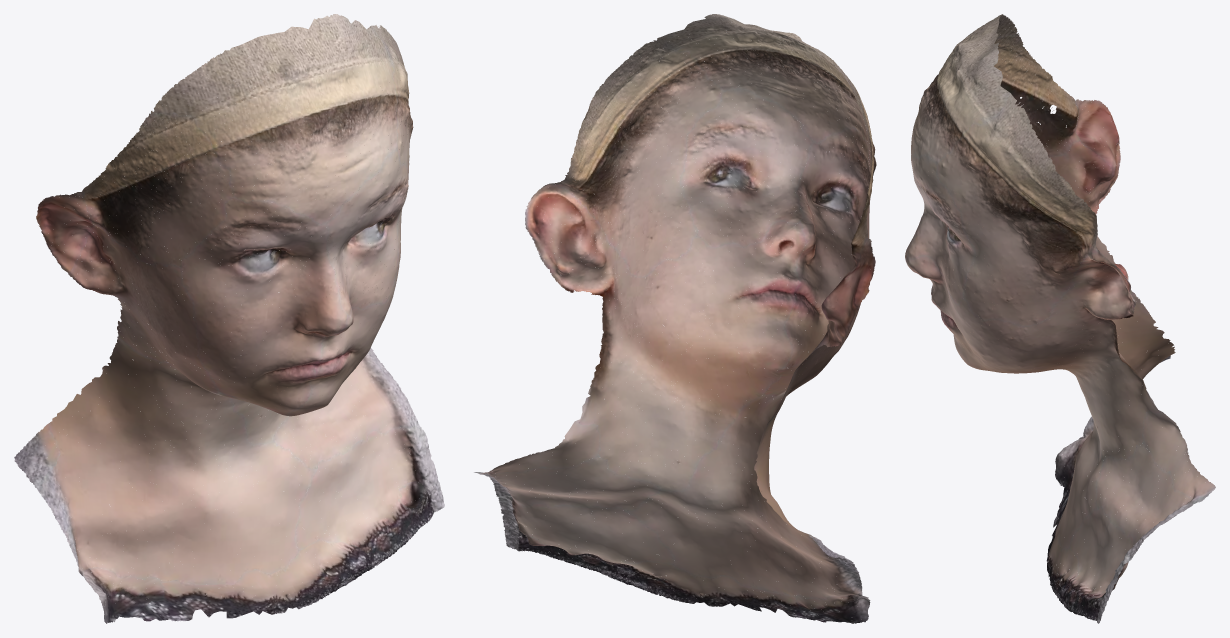
Rendered from 头像_带标注_发网女孩扫描02_opt.glb.
The picture shows the model from 3 angles, left to right: view 1: azimuth 30°, elevation 25°; view 2: azimuth 150°, elevation 25°; view 3: azimuth 270°, elevation 25°; orthographic projection. The views are drawn at different scales.
Parts seen in each view (by area): view 1: defaultMat, defaultMat_2, defaultMat_4, defaultMat_1, defaultMat_3, defaultMat_5; view 2: defaultMat, defaultMat_2, defaultMat_4, defaultMat_1, defaultMat_3, defaultMat_5; view 3: defaultMat, defaultMat_2, defaultMat_4, defaultMat_1, defaultMat_3, defaultMat_5.
Boxes of the visible parts, bbox=[...] form: defaultMat: bbox=[14, 25, 444, 623]; defaultMat_2: bbox=[35, 14, 438, 614]; defaultMat_4: bbox=[22, 95, 411, 596]; defaultMat_1: bbox=[18, 28, 443, 620]; defaultMat_3: bbox=[36, 16, 438, 613]; defaultMat_5: bbox=[28, 97, 409, 573]; defaultMat: bbox=[474, 34, 876, 623]; defaultMat_2: bbox=[490, 14, 871, 617]; defaultMat_4: bbox=[486, 70, 873, 595]; defaultMat_1: bbox=[487, 43, 874, 621]; defaultMat_3: bbox=[508, 15, 869, 615]; defaultMat_5: bbox=[494, 73, 873, 591]; defaultMat: bbox=[906, 14, 1215, 623]; defaultMat_2: bbox=[905, 16, 1199, 609]; defaultMat_4: bbox=[924, 24, 1212, 609]; defaultMat_1: bbox=[909, 20, 1214, 617]; defaultMat_3: bbox=[911, 25, 1159, 597]; defaultMat_5: bbox=[932, 48, 1205, 606].
Size of the model in its own units: 0.2047 by 0.3 by 0.1574.
Materials: 1 (1 with a texture image).
